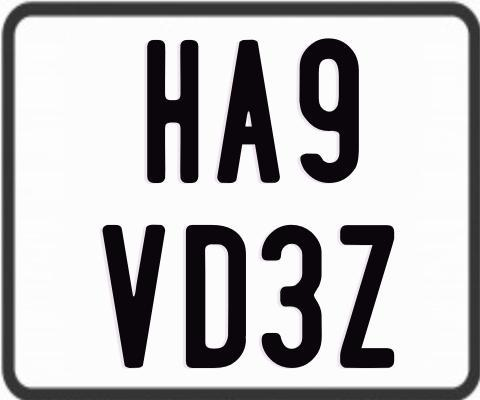3: (260, 223, 321, 366)
9: (298, 37, 360, 185)
A: (214, 39, 279, 184)
D: (185, 223, 247, 368)
H: (145, 37, 196, 181)
V: (99, 224, 162, 373)
Z: (340, 222, 397, 368)
